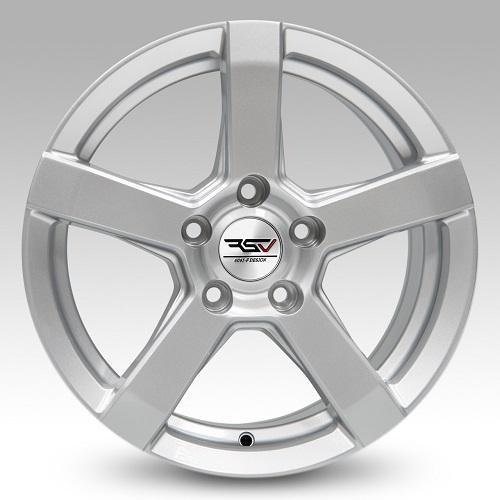hole: (240, 182, 260, 204), (271, 285, 291, 304), (292, 222, 310, 242), (186, 222, 204, 241), (205, 286, 223, 304)
